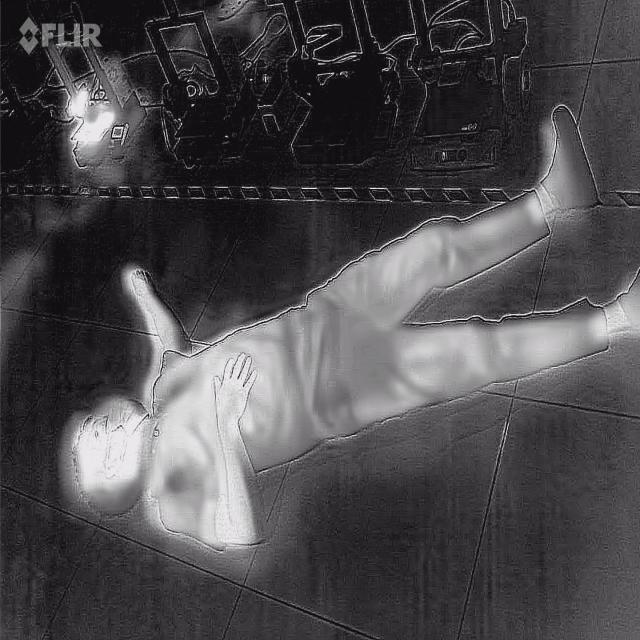Victim: (63, 91, 639, 554)
